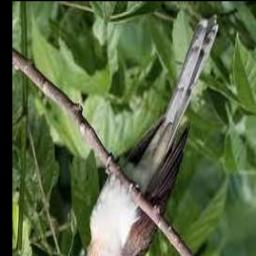Cuckoo: (73, 13, 219, 256)
